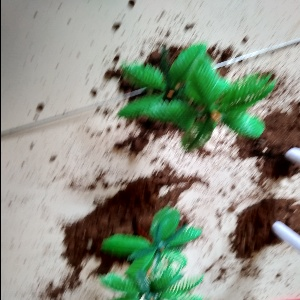plant: (108, 33, 256, 149), (87, 194, 206, 297)
